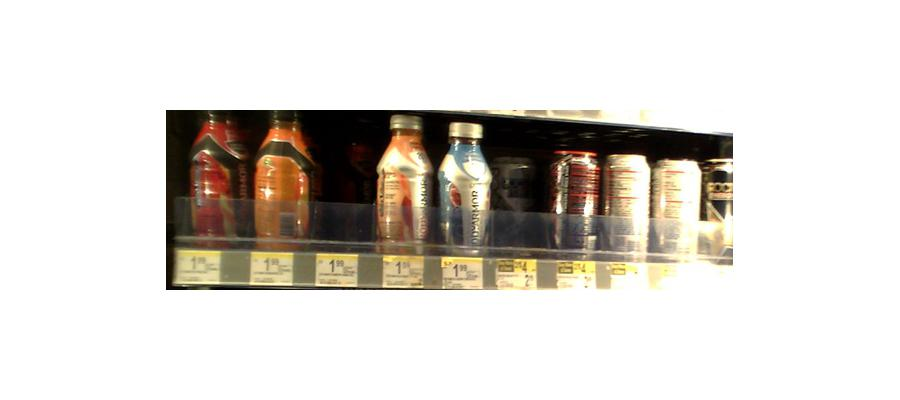bottle: (250, 107, 314, 246), (374, 108, 431, 254), (186, 106, 244, 241), (435, 117, 490, 257), (329, 123, 375, 256), (550, 150, 600, 255), (604, 151, 650, 265), (655, 158, 701, 261), (495, 150, 537, 256)
